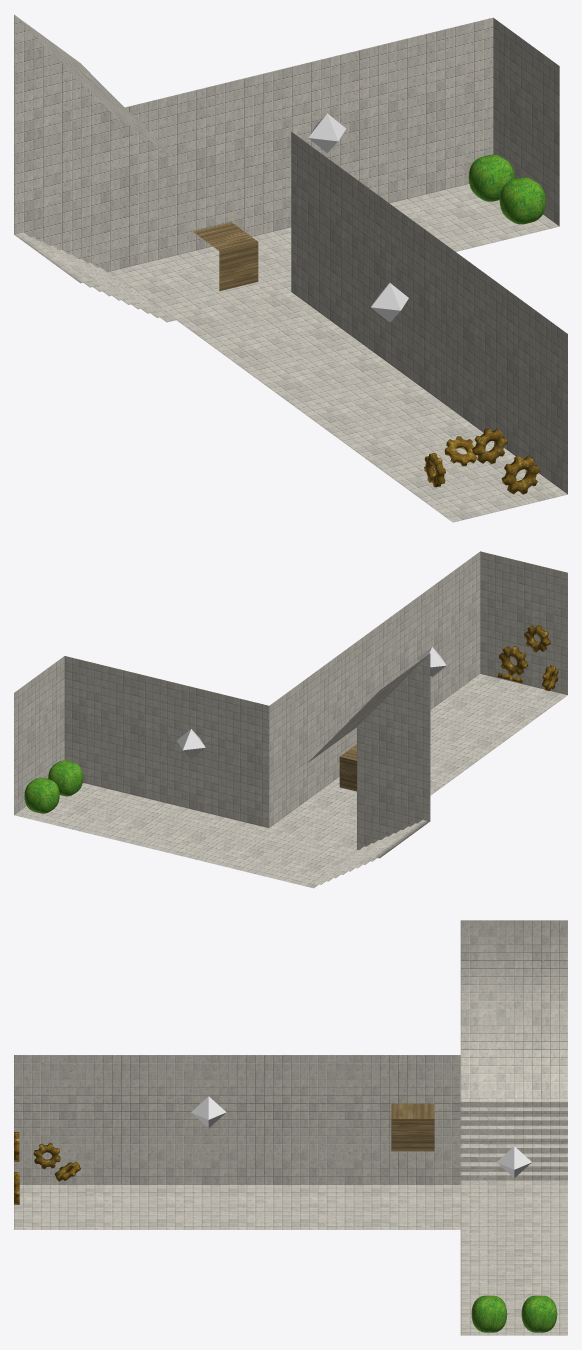
The model's file is hallway.gltf.
3 views of the same model, one above another, from view 1: azimuth 30°, elevation 25°; view 2: azimuth 150°, elevation 25°; view 3: azimuth 270°, elevation 25° (orthographic). The views are drawn at different scales.
Visible parts, largest first — view 1: Plane001, StraightStair001, Box001, bush001, bush, go_Cog(2,0), l_Flicker(100,1,.5,.5), l_point(100), go_Cog(2,0) (1), go_Cog(2,1, 0)001; view 2: Plane001, StraightStair001, bush, bush001, Box001, go_Cog(2,0), l_point(100), go_Cog(2,0) (1); view 3: Plane001, StraightStair001, Box001, bush, bush001, l_Flicker(100,1,.5,.5), l_point(100).
Boxes of the visible parts, x1=… form: Plane001: x1=110, y1=17, x2=567, y2=522; StraightStair001: x1=14, y1=14, x2=175, y2=322; Box001: x1=193, y1=222, x2=258, y2=291; bush001: x1=499, y1=177, x2=545, y2=224; bush: x1=468, y1=154, x2=514, y2=201; go_Cog(2,0): x1=501, y1=455, x2=540, y2=494; l_Flicker(100,1,.5,.5): x1=371, y1=283, x2=408, y2=322; l_point(100): x1=308, y1=113, x2=346, y2=152; go_Cog(2,0) (1): x1=472, y1=428, x2=507, y2=464; go_Cog(2,1, 0)001: x1=444, y1=436, x2=476, y2=466; Plane001: x1=14, y1=551, x2=567, y2=886; StraightStair001: x1=307, y1=653, x2=430, y2=888; bush: x1=24, y1=777, x2=59, y2=813; bush001: x1=48, y1=760, x2=83, y2=796; Box001: x1=339, y1=744, x2=356, y2=791; go_Cog(2,0): x1=498, y1=646, x2=527, y2=675; l_point(100): x1=176, y1=729, x2=205, y2=759; go_Cog(2,0) (1): x1=524, y1=625, x2=550, y2=652; Plane001: x1=14, y1=1055, x2=567, y2=1335; StraightStair001: x1=460, y1=920, x2=567, y2=1184; Box001: x1=391, y1=1103, x2=434, y2=1151; bush: x1=521, y1=1295, x2=557, y2=1332; bush001: x1=471, y1=1295, x2=507, y2=1332; l_Flicker(100,1,.5,.5): x1=191, y1=1096, x2=226, y2=1128; l_point(100): x1=496, y1=1146, x2=531, y2=1178.
Bounding box in the file's own units: 12.51 × 7.16 × 15.5.
